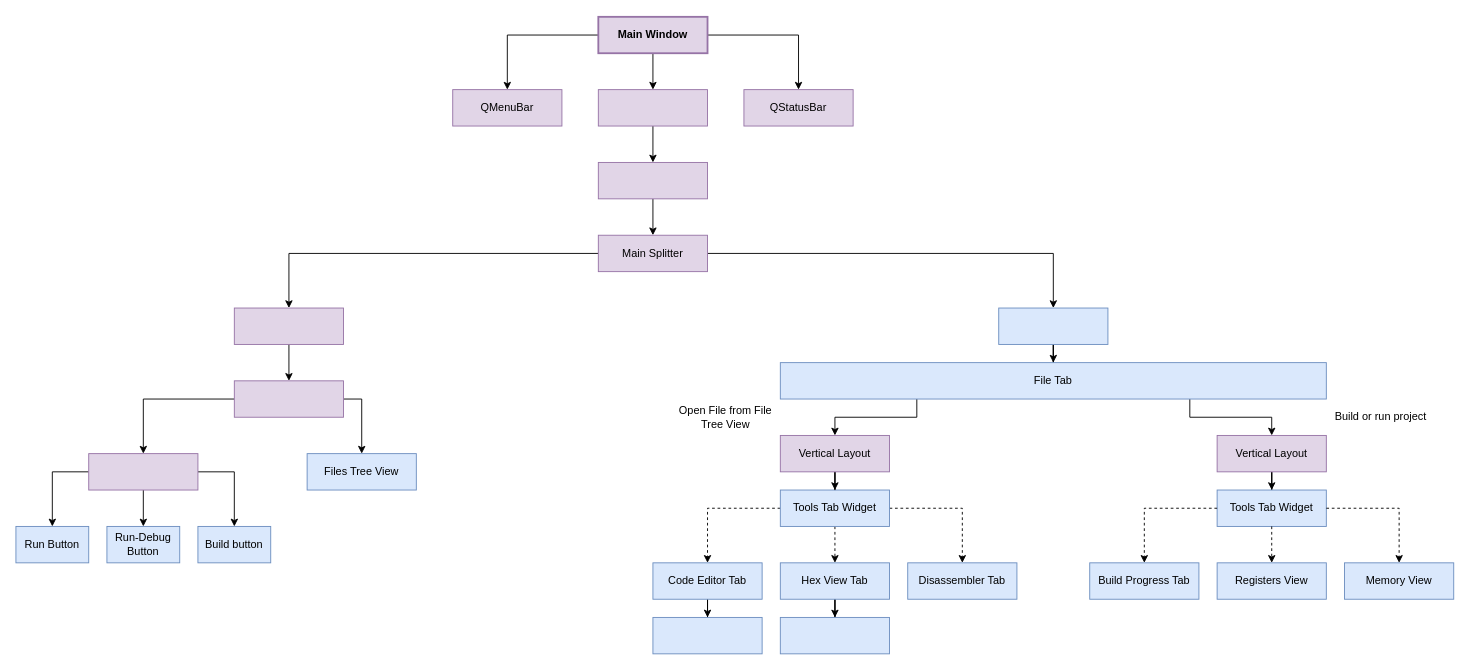
Image size: 1470x670. Some labels were removed from this diagram. Here are the shapes that lost their labels. From the top down, the centre of each, then its label:
[652,107]: mainWidget
[652,180]: Main H orizontal Layout
[288,325]: leftWidget
[1053,325]: Files Tab Widget
[288,398]: Left Vertical Layout
[143,471]: Button Horizontal Layout
[707,635]: QCodeEditor
[834,635]: QHexView
